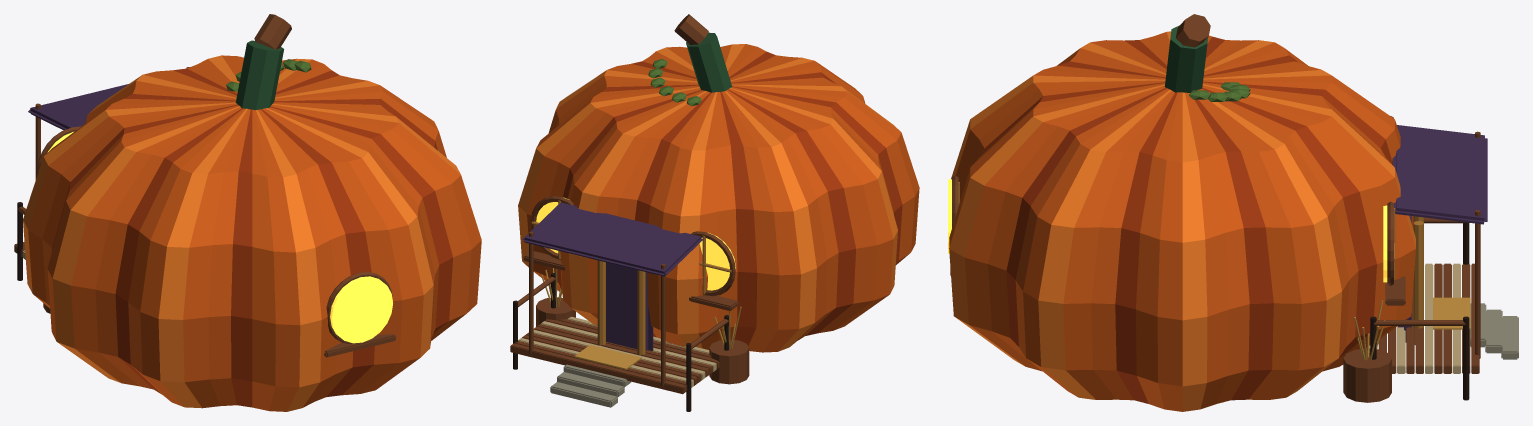
Rendered from pumpkin_house_1.glb.
3 renders of one model, left to right at view 1: azimuth 30°, elevation 25°; view 2: azimuth 150°, elevation 25°; view 3: azimuth 270°, elevation 25°, orthographic. The views are drawn at different scales.
Visible parts, largest first — view 1: Lantern Hollow cottage.001Mesh; view 2: Lantern Hollow cottage.001Mesh; view 3: Lantern Hollow cottage.001Mesh.
Part boxes in pixels (box(x1,y1,x2,y2)): Lantern Hollow cottage.001Mesh: box(14, 14, 481, 411); Lantern Hollow cottage.001Mesh: box(510, 14, 919, 411); Lantern Hollow cottage.001Mesh: box(948, 14, 1518, 411).
Size of the model in its own units: 8.48 by 6.64 by 9.86.
